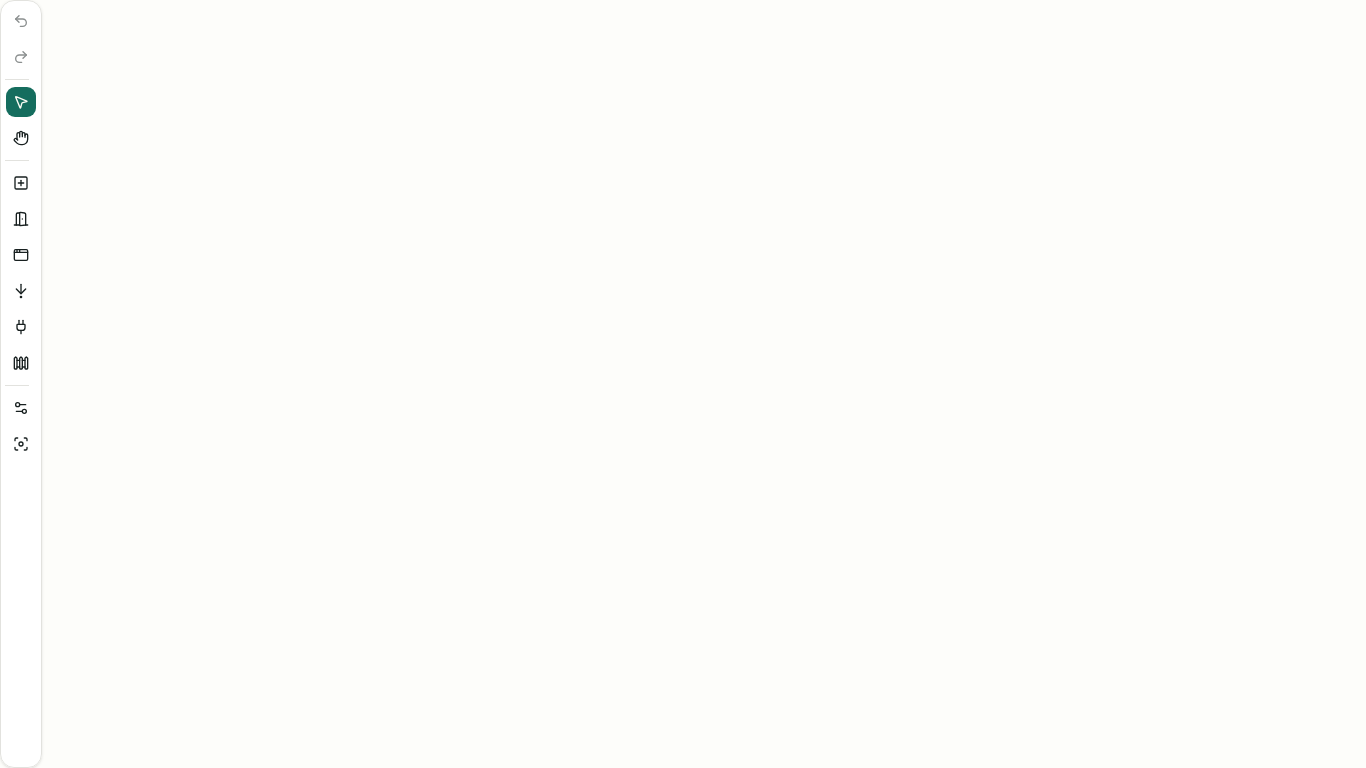
Scenario: EditorToolbar capability gating (roadmap §21) — palette Eksterior › hanya grup Zona atap yang muncul saat roof_zones_v1 on & exterior_elements_v1 off
The width and height of the screenshot is (1366, 768).
Click the button named "Eksterior": click(21, 363) [5, 347, 37, 379]
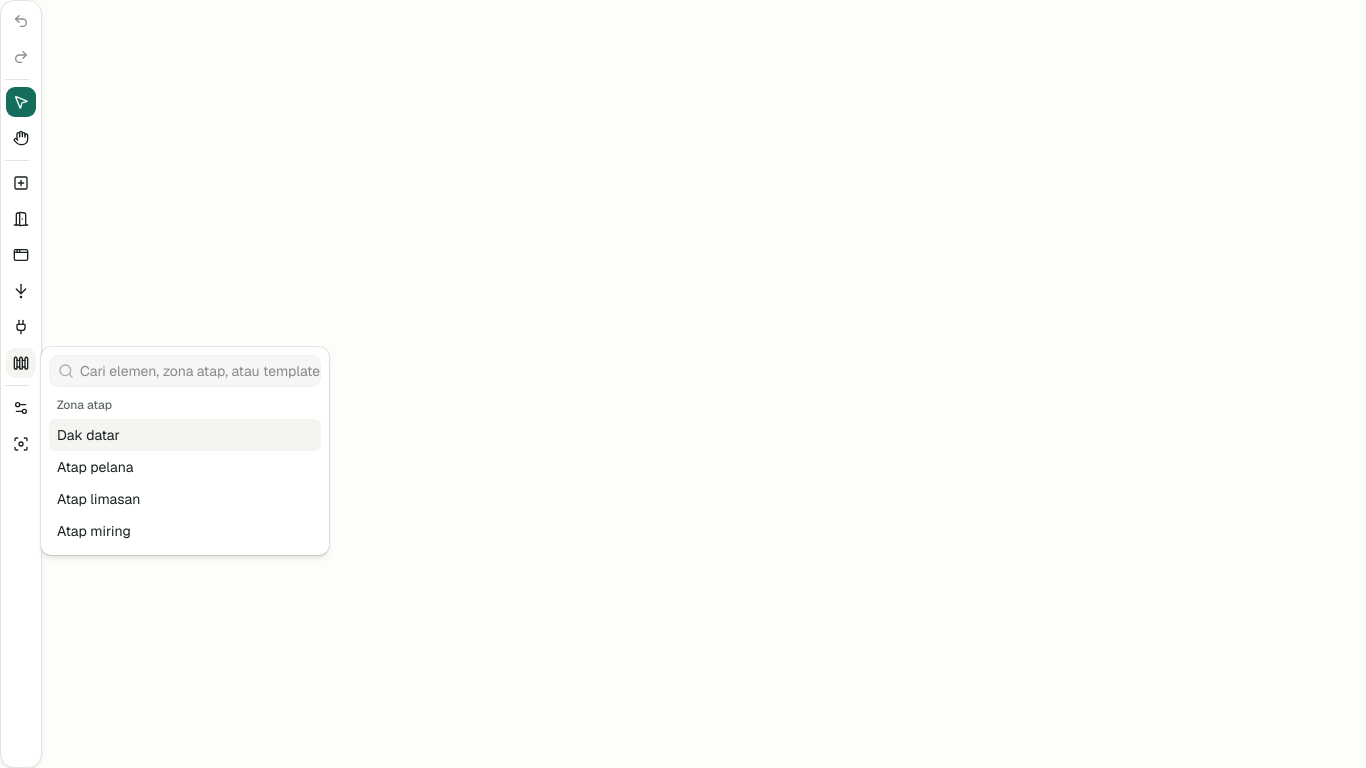
Now the text "Zona atap" is shown, box [57, 397, 112, 413]
Now the option "Dak datar" is shown, box [49, 419, 321, 451]
